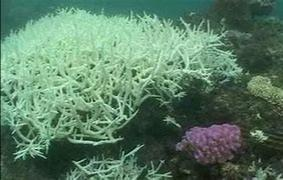bleached_corals: (66, 145, 172, 180)
